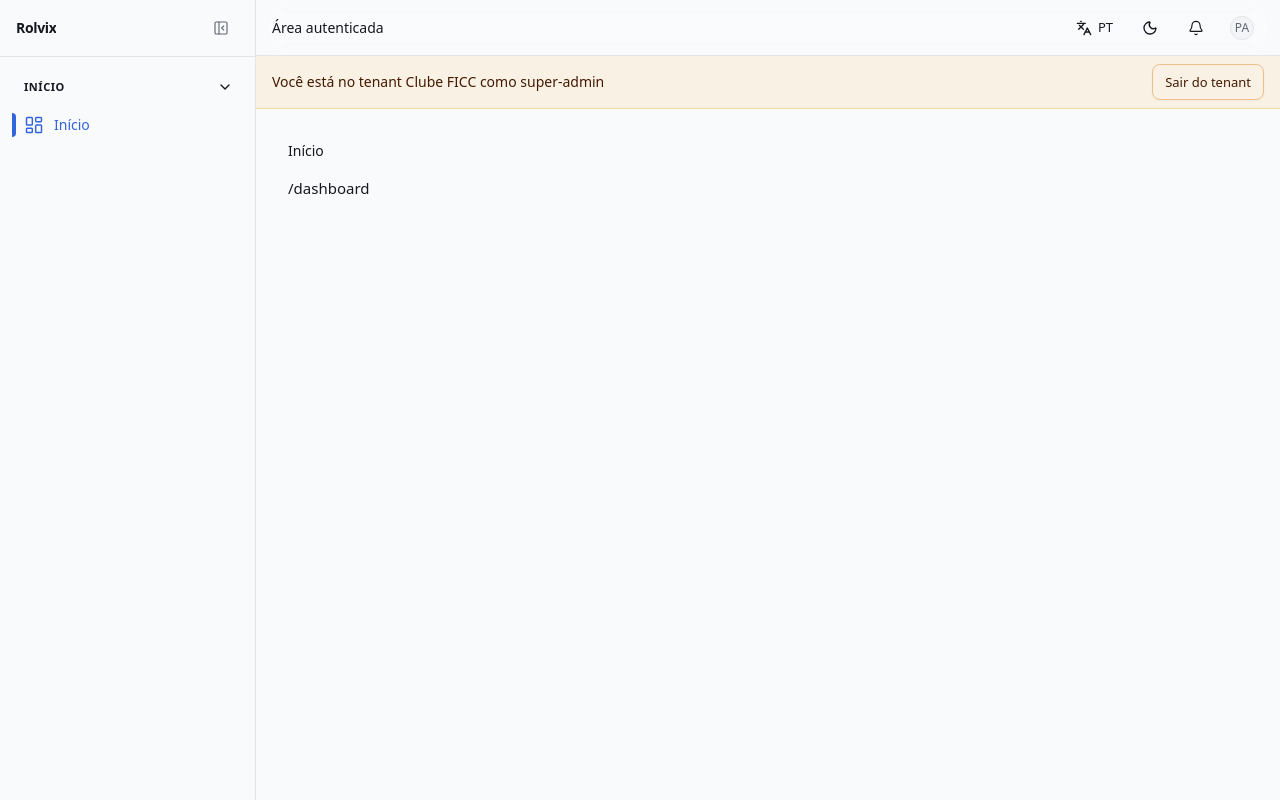
Test case: Voltar à plataforma › clears the tenant context and opens the platform dashboard
Click the button "Sair do tenant" at (1208, 82), box [1152,64,1264,100]
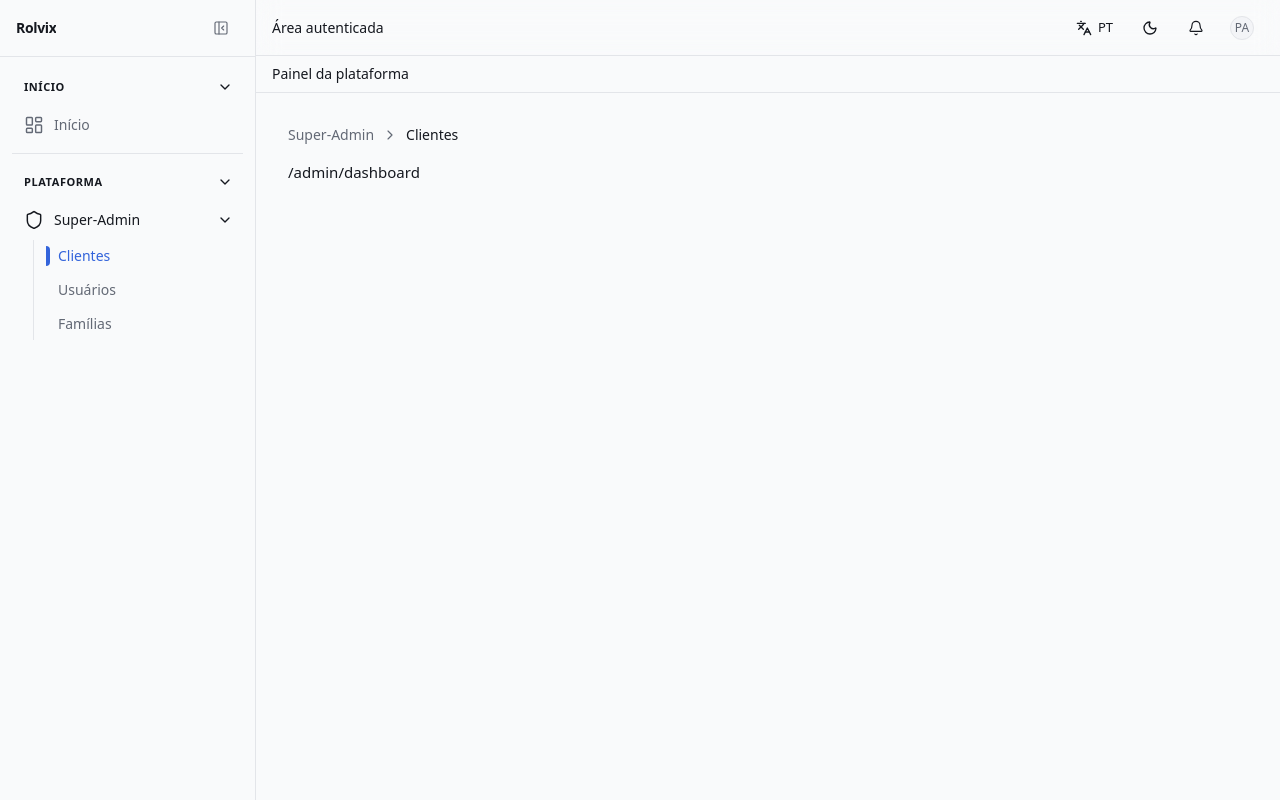
Expected: the text with test id "location" reads "/admin/dashboard", [288,162,420,182]
